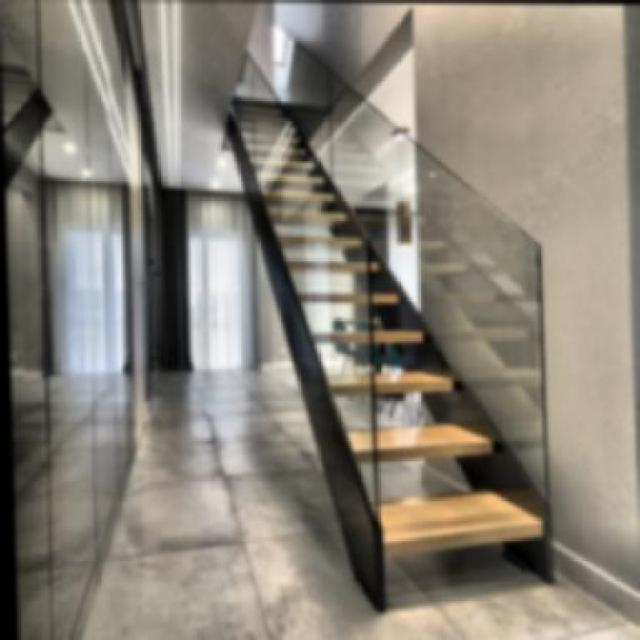stair: (240, 119, 546, 542)
